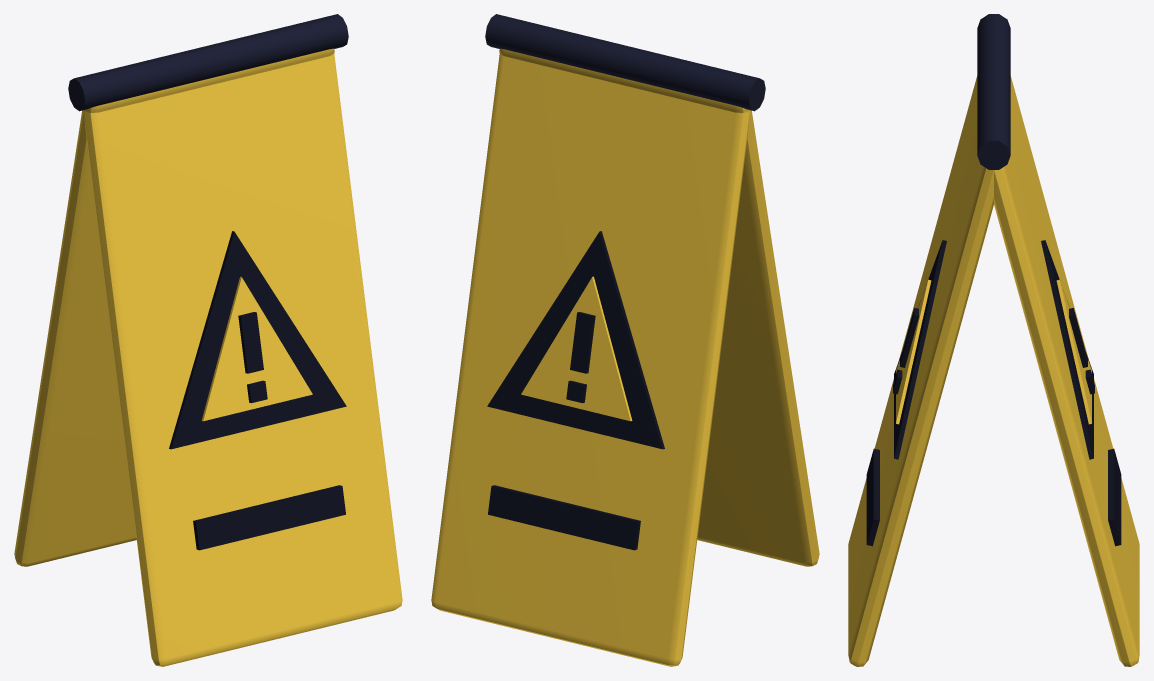
File: warning_sign.glb
3 renders of one model, left to right at view 1: azimuth 30°, elevation 25°; view 2: azimuth 150°, elevation 25°; view 3: azimuth 270°, elevation 25°, orthographic.
Parts seen in each view (by area): view 1: Body; view 2: Body; view 3: Body.
Boxes of the visible parts, left/top/right/bottom form: Body: left=14, top=14, right=402, bottom=666; Body: left=431, top=14, right=819, bottom=666; Body: left=848, top=14, right=1139, bottom=666.
Bounding box in the file's own units: 0.36 × 0.7041 × 0.3485.
